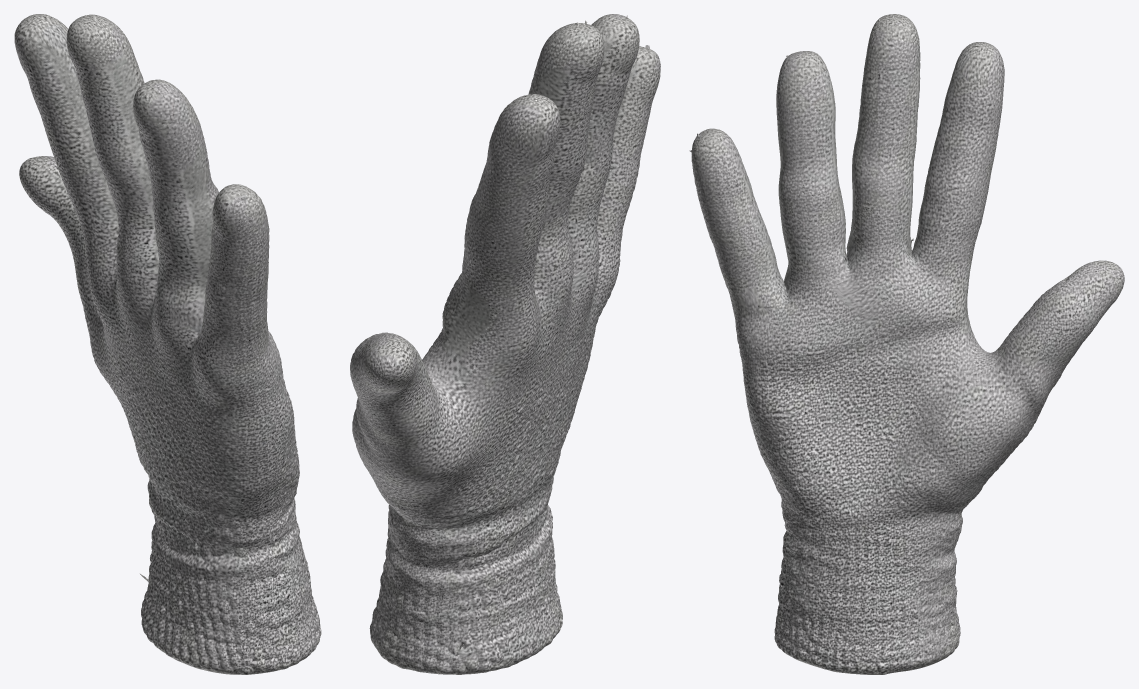
File: crystal-glove.glb
3 views of the same model, side by side, from view 1: azimuth 30°, elevation 25°; view 2: azimuth 150°, elevation 25°; view 3: azimuth 270°, elevation 25° (orthographic). The views are drawn at different scales.
Visible parts, largest first — view 1: tripo_node_36bac329-5412-4219-a0f0-a20a7ced4ccd; view 2: tripo_node_36bac329-5412-4219-a0f0-a20a7ced4ccd; view 3: tripo_node_36bac329-5412-4219-a0f0-a20a7ced4ccd.
Boxes of the visible parts, <box> form: tripo_node_36bac329-5412-4219-a0f0-a20a7ced4ccd: <box>14,14,321,674</box>; tripo_node_36bac329-5412-4219-a0f0-a20a7ced4ccd: <box>350,14,660,674</box>; tripo_node_36bac329-5412-4219-a0f0-a20a7ced4ccd: <box>689,14,1124,674</box>.
Size of the model in its own units: 0.3661 by 0.9816 by 0.6745.
Materials: 1 (1 with a texture image).
